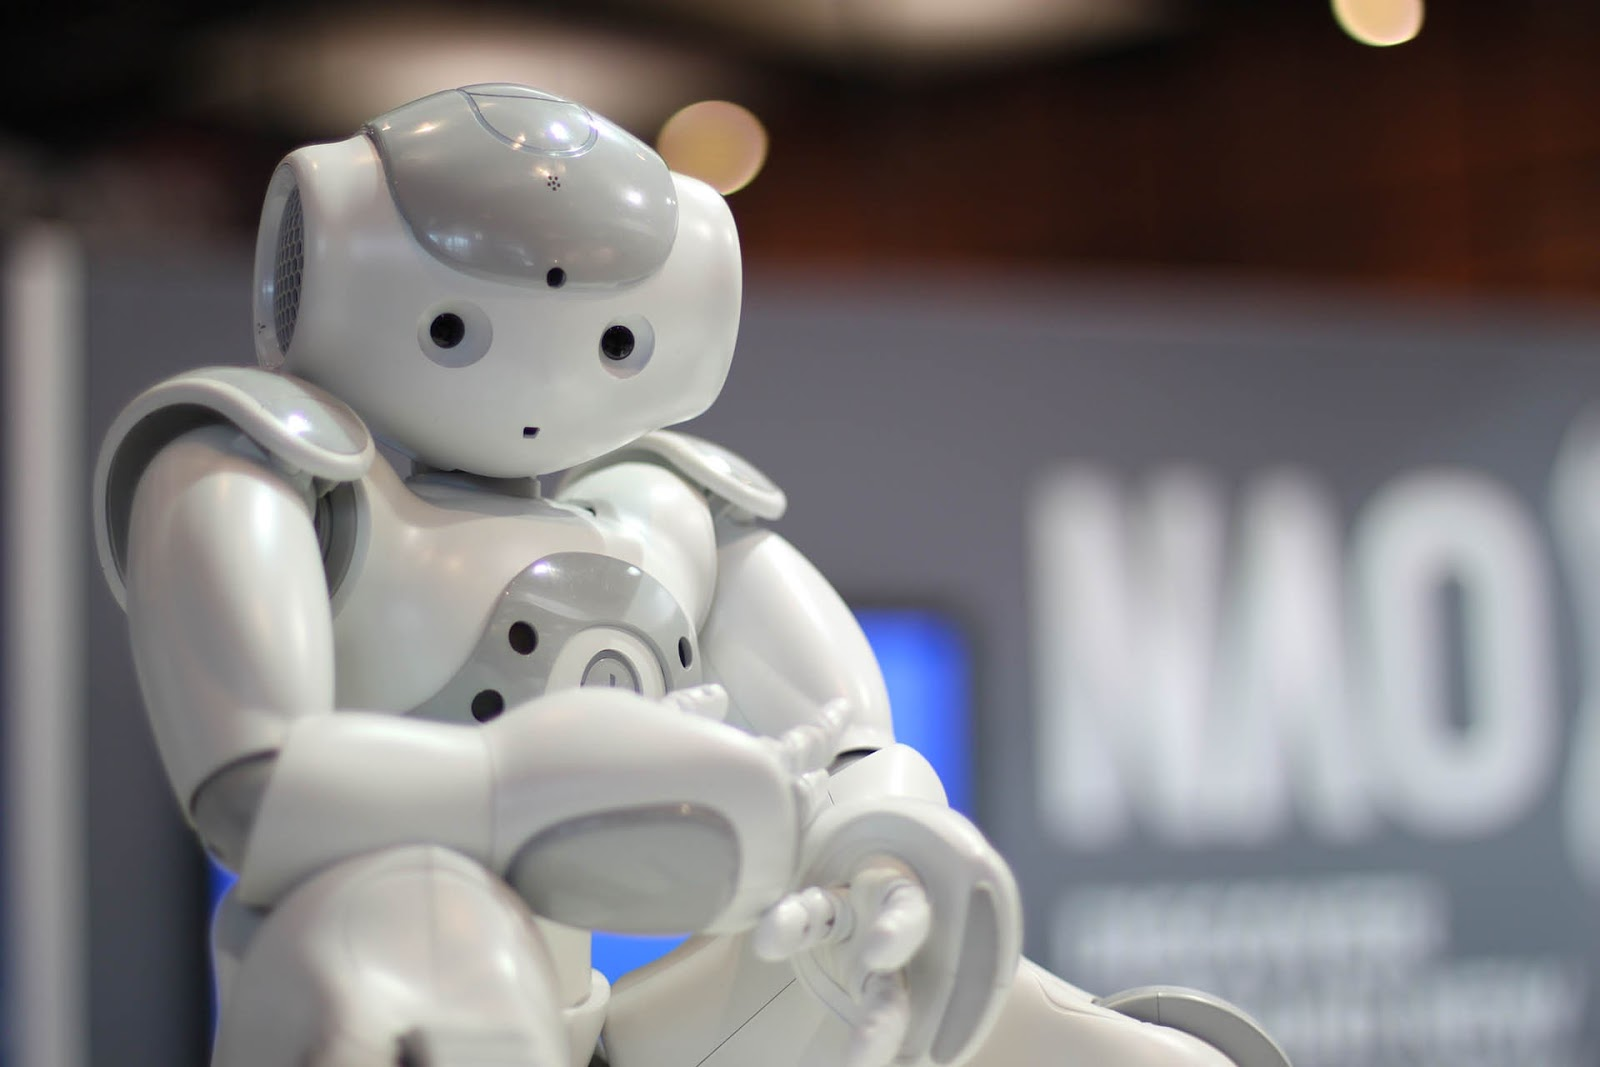nao: (57, 79, 1304, 1067)
